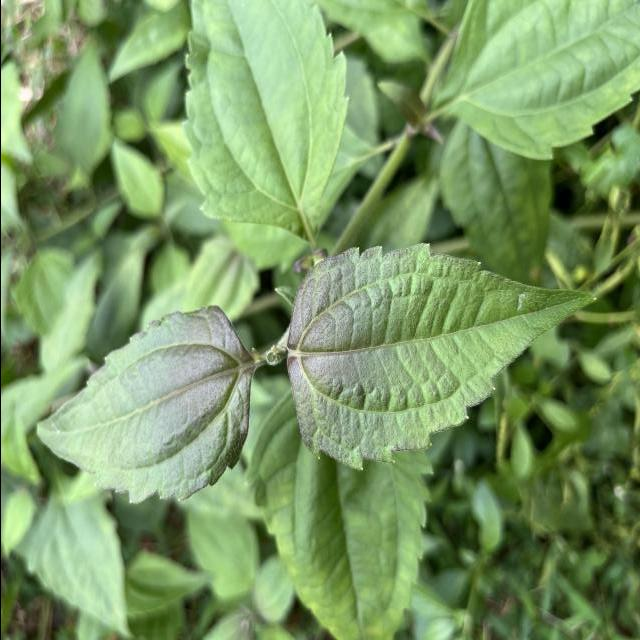Chromolaena odorata: (281, 237, 599, 476), (29, 298, 260, 511)
